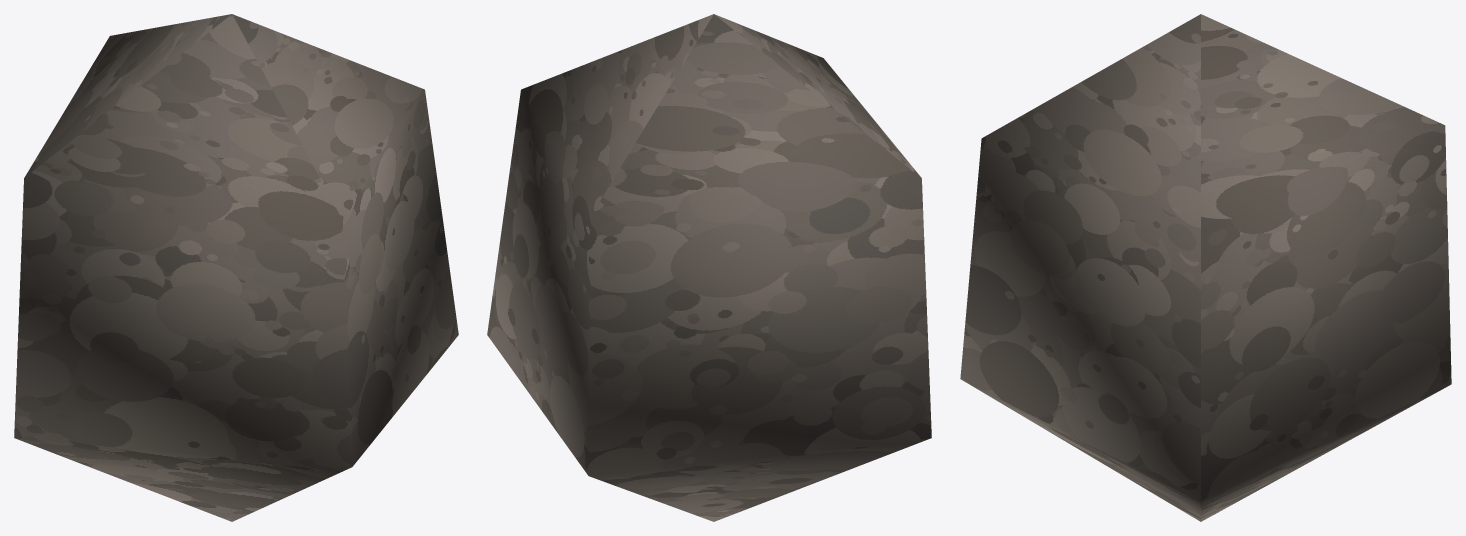
Rendered from rock_a_L2.obj.
3 views of the same model, side by side, from view 1: azimuth 30°, elevation 25°; view 2: azimuth 150°, elevation 25°; view 3: azimuth 270°, elevation 25° (orthographic).
Size of the model in its own units: 1.83 by 2 by 1.76.
1 material, 1 textured.
